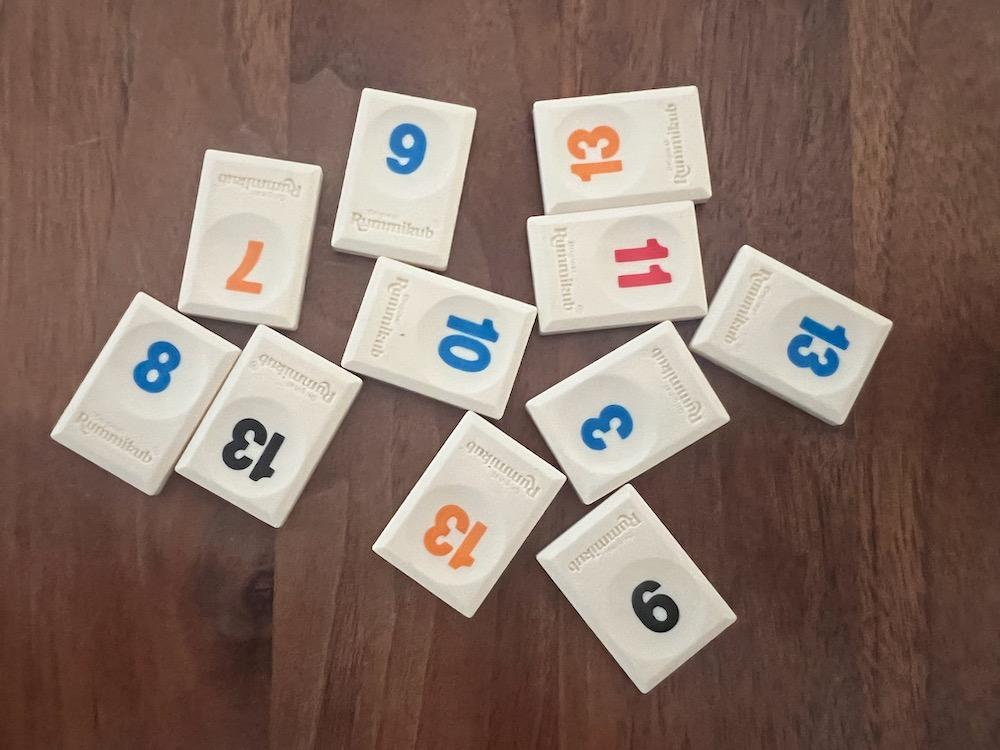black_13: (177, 326, 361, 527)
black_9: (537, 484, 736, 693)
blue_10: (343, 258, 537, 420)
blue_13: (689, 246, 893, 424)
blue_3: (525, 320, 729, 504)
blue_8: (51, 293, 240, 494)
blue_9: (332, 88, 477, 270)
orange_13: (373, 412, 566, 617), (535, 86, 711, 215)
orange_7: (178, 150, 320, 330)
red_11: (528, 201, 705, 334)
